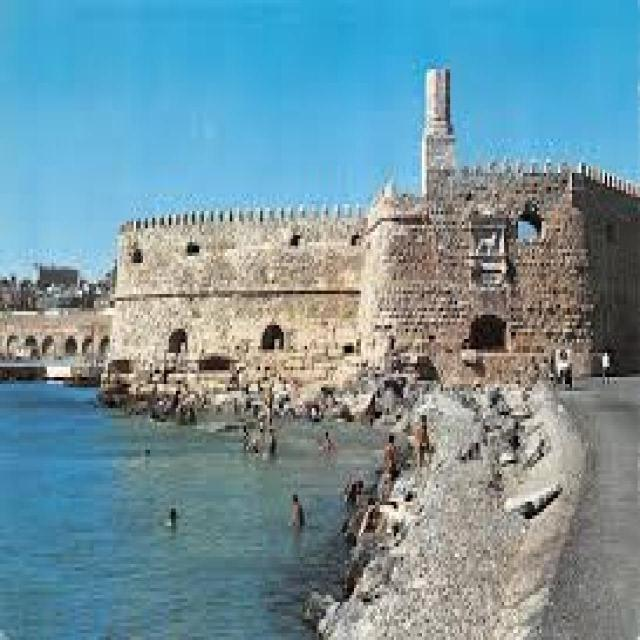Kules: (110, 71, 640, 382)
